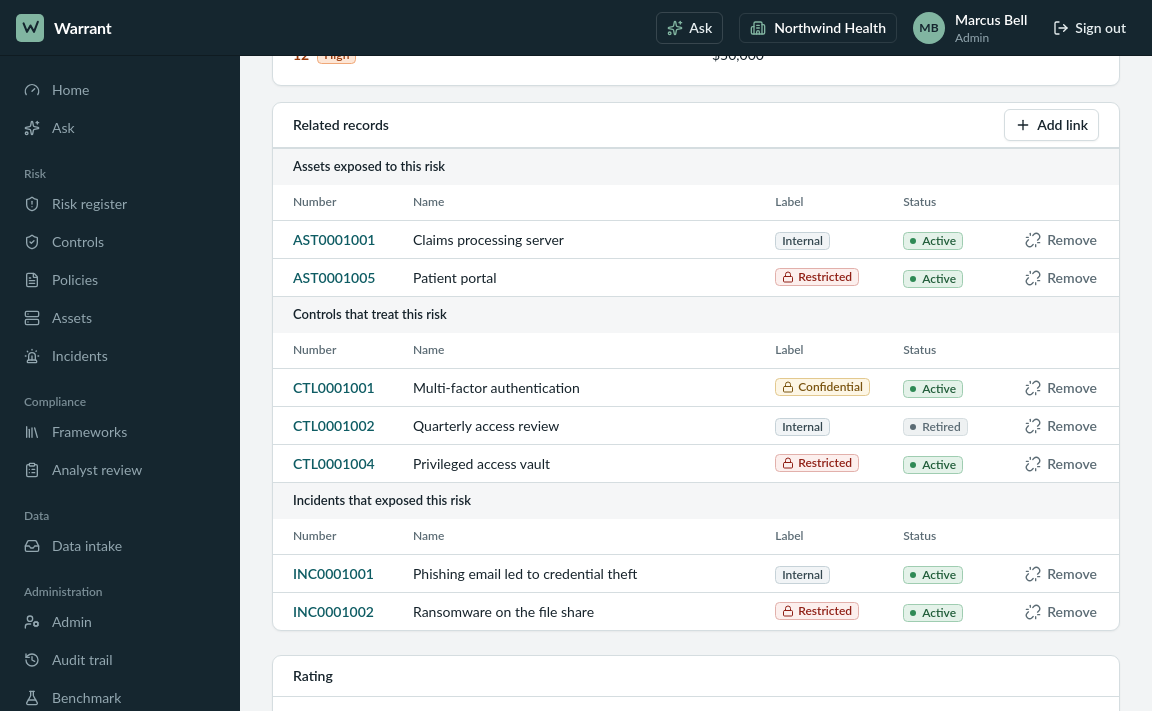
Test: after a removal (criterion 4) › the row disappears, the group is asked for again, and a short message confirms it
The image size is (1152, 711).
(page scrolled)
Expected: the row "CTL0001001" is shown, [273,368,1119,406]
Click the button "Remove" in the row of "CTL0001001" at (1061, 388), box [1015,374,1107,402]
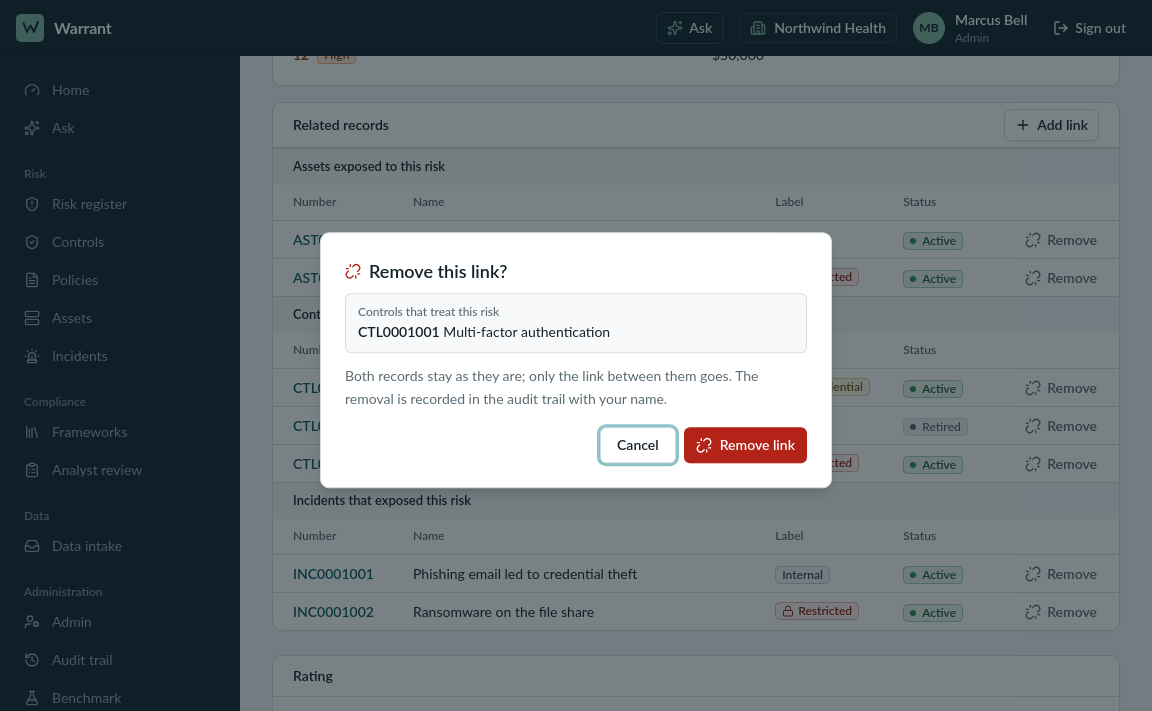
Click the button "Remove link" at (745, 445), box [684,427,807,463]
(page scrolled)
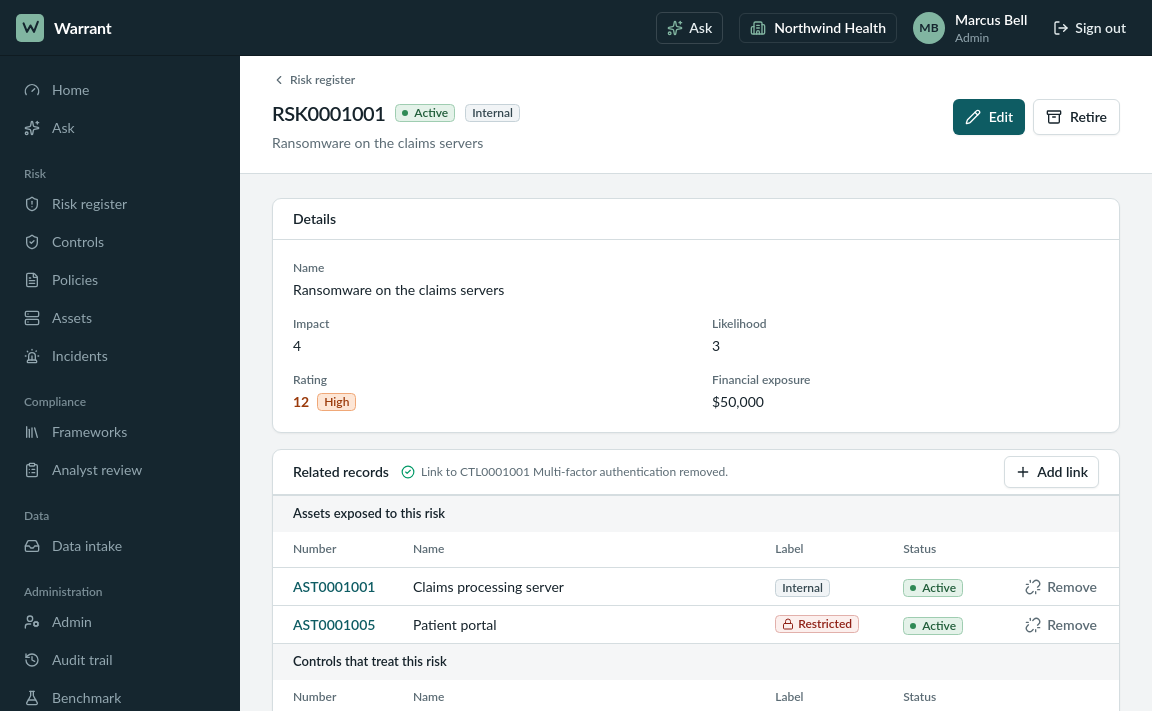
Expected: the dialog is gone
Expected: the text "removed" is shown, [421,464,728,479]
Expected: the heading "RSK0001001" is shown, [272,99,385,127]
